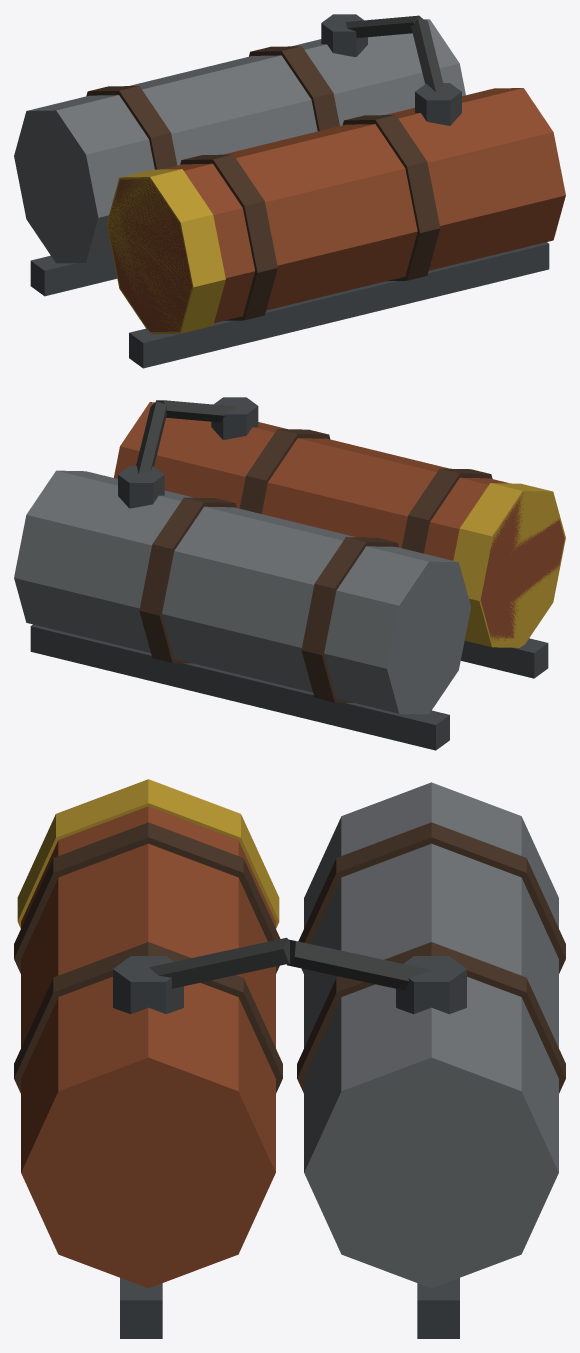
File: upg_fuel_tanks.glb
3 renders of one model, top to bottom at view 1: azimuth 30°, elevation 25°; view 2: azimuth 150°, elevation 25°; view 3: azimuth 270°, elevation 25°, orthographic. The views are drawn at different scales.
Parts seen in each view (by area): view 1: fuel_tanks; view 2: fuel_tanks; view 3: fuel_tanks.
Part boxes in pixels (x1,y1,x2,y2): fuel_tanks: (14, 14, 565, 368); fuel_tanks: (14, 397, 565, 750); fuel_tanks: (14, 779, 565, 1338).
Size of the model in its own units: 1 by 0.5379 by 0.78.
